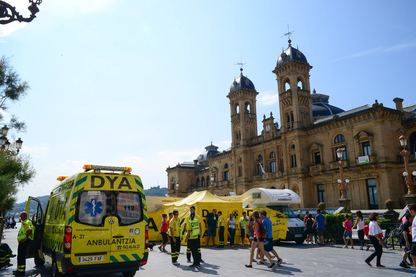ambulance: (24, 164, 149, 277)
